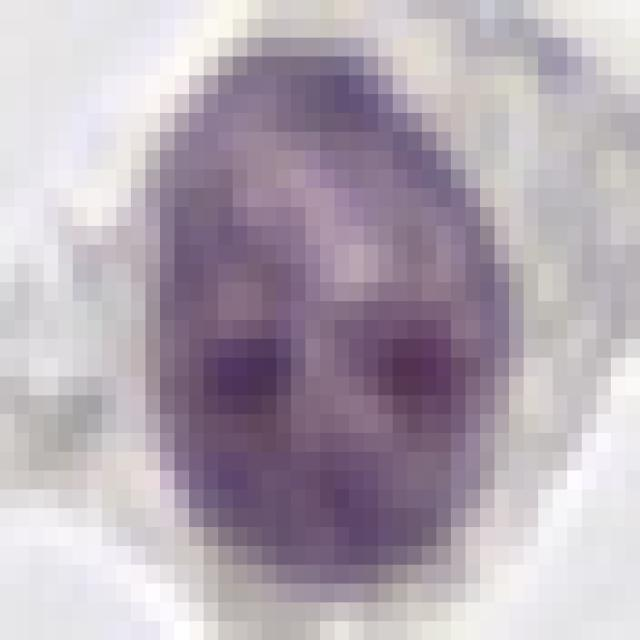nucleus: (137, 47, 523, 588)
